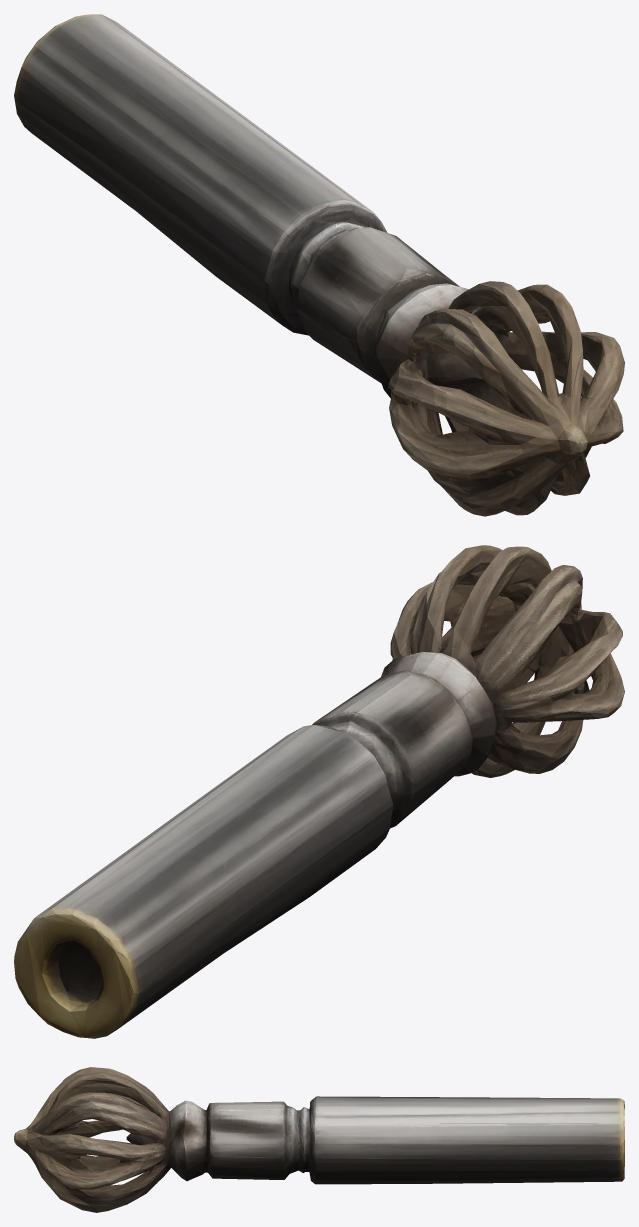
The model's file is microphone.glb.
3 views of the same model, one above another, from view 1: azimuth 30°, elevation 25°; view 2: azimuth 150°, elevation 25°; view 3: azimuth 270°, elevation 25° (orthographic). The views are drawn at different scales.
Visible parts, largest first — view 1: world; view 2: world; view 3: world.
Part boxes in pixels (x1=…): world: x1=14, y1=14, x2=624, y2=516; world: x1=14, y1=545, x2=624, y2=1038; world: x1=14, y1=1067, x2=624, y2=1212.
Bounding box in the file's own units: 0.2347 × 0.2412 × 1.
Materials: 1 (1 with a texture image).
